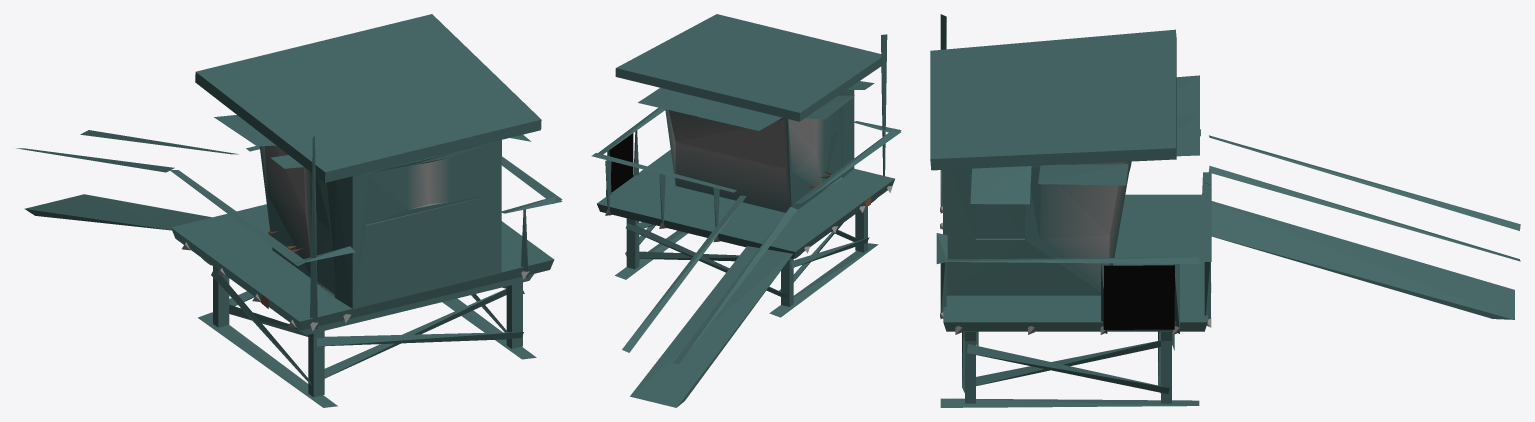
Rendered from lifeguard-hut.lod1.glb.
The picture shows the model from 3 angles, left to right: view 1: azimuth 30°, elevation 25°; view 2: azimuth 150°, elevation 25°; view 3: azimuth 270°, elevation 25°; orthographic projection. The views are drawn at different scales.
Visible parts, largest first — view 1: Object_5; view 2: Object_5; view 3: Object_5.
Part boxes in pixels (<box>): Object_5: <box>16,14,562,407</box>; Object_5: <box>591,14,901,407</box>; Object_5: <box>930,14,1520,407</box>.
Bounding box in the file's own units: 4.54 × 4.5 × 8.54.
